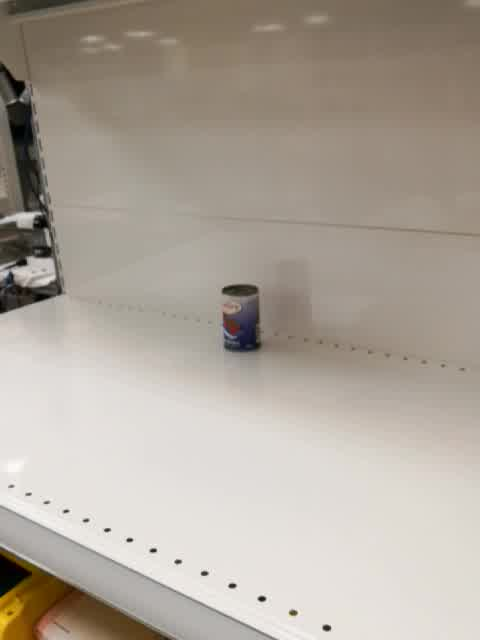sardine: (222, 283, 262, 353)
